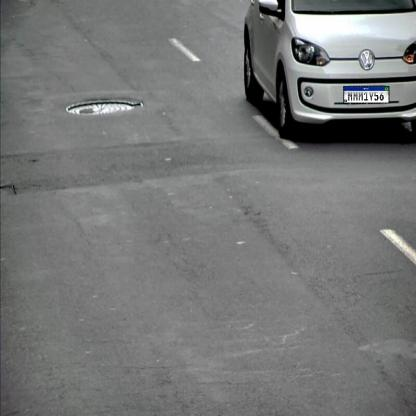PlacaM: (343, 86, 390, 103)
